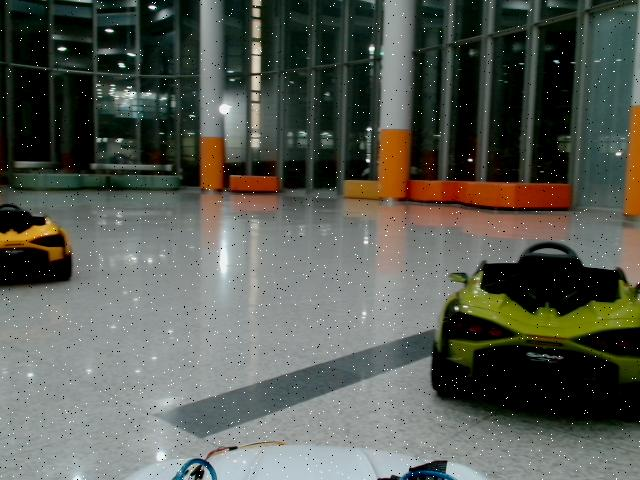car: (432, 242, 640, 409), (1, 204, 73, 288)
